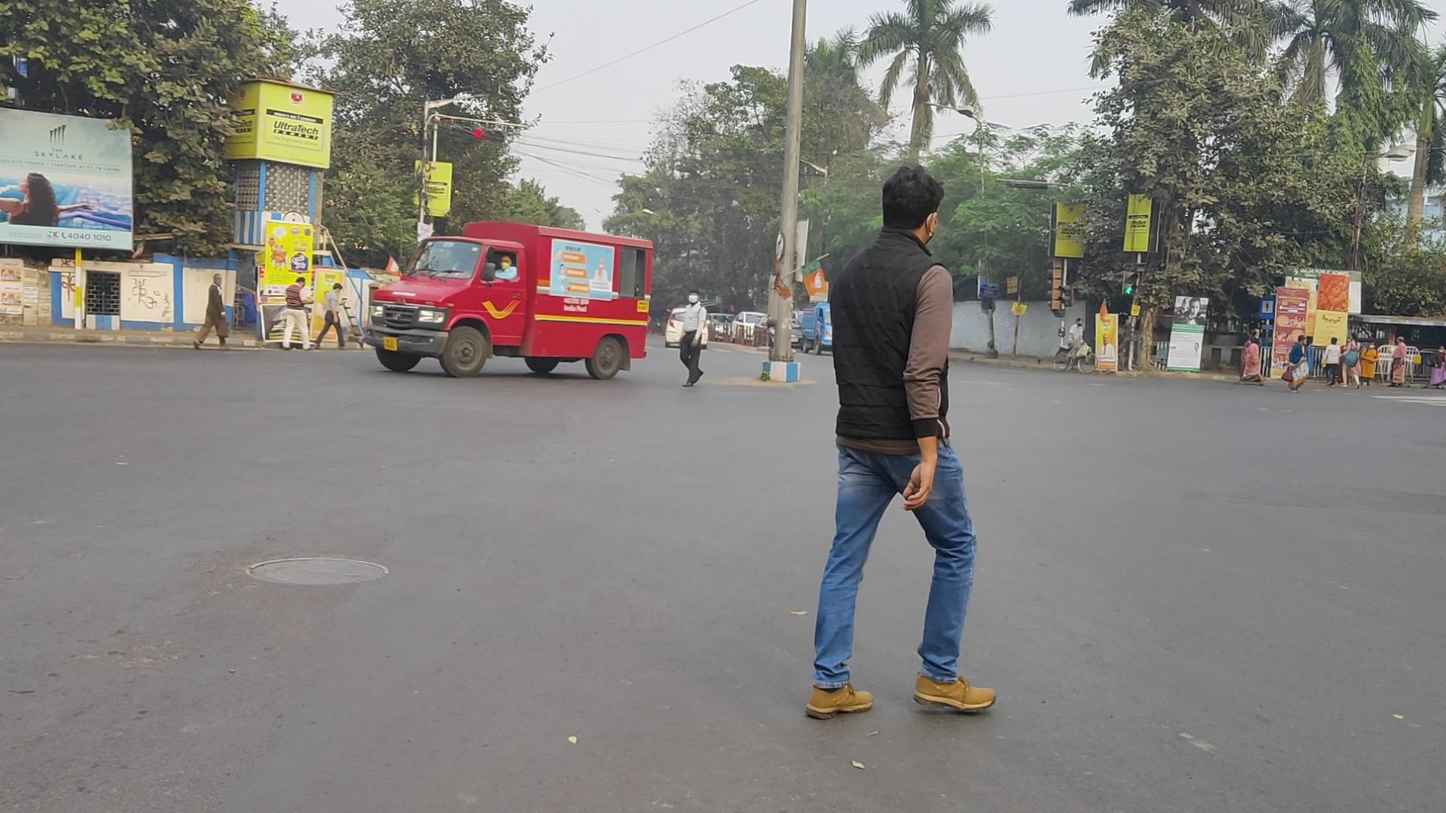bike: (1053, 318, 1098, 374)
car: (665, 307, 709, 349)
truck: (368, 220, 654, 381)
van: (801, 303, 862, 358)
